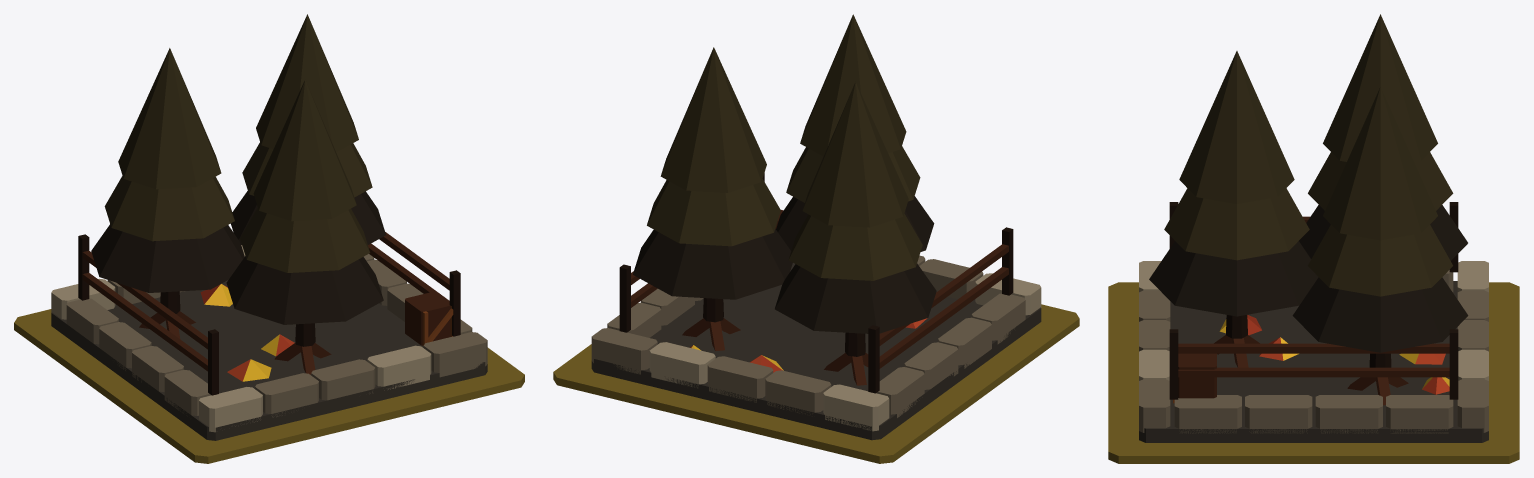
Rendered from whisper-grove_t6.glb.
3 renders of one model, left to right at view 1: azimuth 30°, elevation 25°; view 2: azimuth 150°, elevation 25°; view 3: azimuth 270°, elevation 25°, orthographic. The views are drawn at different scales.
Visible parts, largest first — view 1: MMR | whisper-grove | T06 Architecture.001, MMR | whisper-grove | Tier 06 Ground.001, MMR | whisper-grove | T06 Autumn Dressing.001; view 2: MMR | whisper-grove | T06 Architecture.001, MMR | whisper-grove | Tier 06 Ground.001; view 3: MMR | whisper-grove | T06 Architecture.001, MMR | whisper-grove | Tier 06 Ground.001, MMR | whisper-grove | T06 Autumn Dressing.001.
Boxes of the visible parts, <box> form: MMR | whisper-grove | T06 Architecture.001: <box>51,14,487,440</box>; MMR | whisper-grove | Tier 06 Ground.001: <box>14,309,524,463</box>; MMR | whisper-grove | T06 Autumn Dressing.001: <box>200,284,294,381</box>; MMR | whisper-grove | T06 Architecture.001: <box>591,14,1041,440</box>; MMR | whisper-grove | Tier 06 Ground.001: <box>553,304,1079,463</box>; MMR | whisper-grove | T06 Architecture.001: <box>1139,14,1488,442</box>; MMR | whisper-grove | Tier 06 Ground.001: <box>1108,282,1519,463</box>; MMR | whisper-grove | T06 Autumn Dressing.001: <box>1219,315,1449,394</box>.
Size of the model in its own units: 2.35 by 2.06 by 2.35.
1 material, 1 textured.
